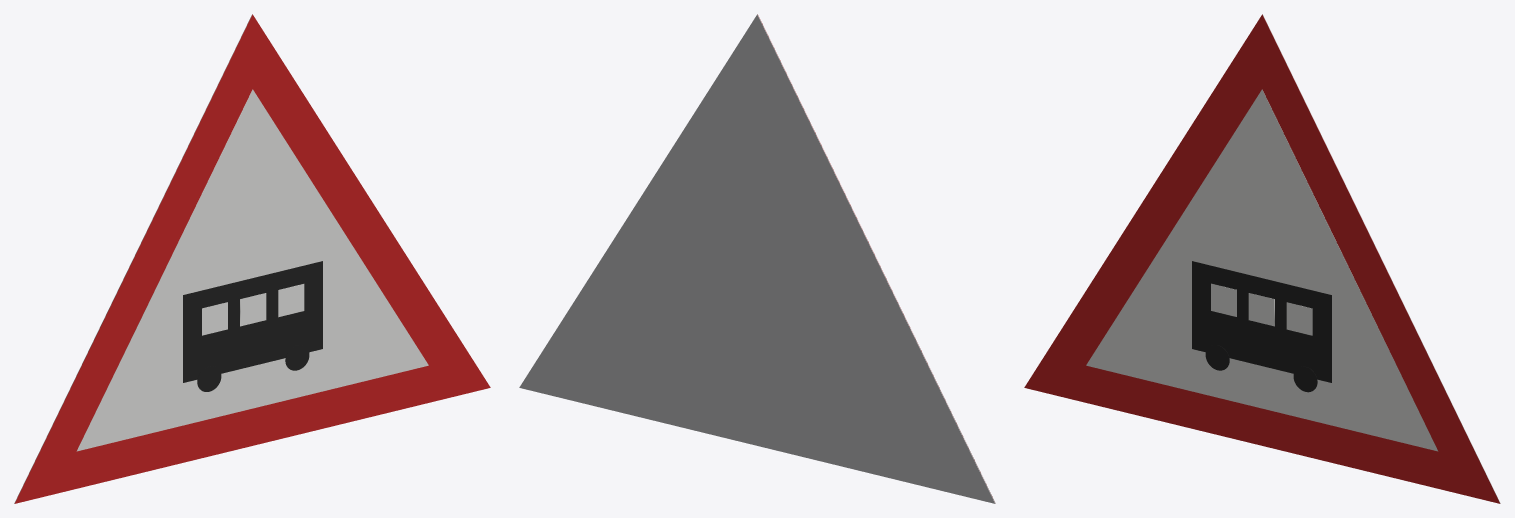
3 renders of one model, left to right at view 1: azimuth 30°, elevation 25°; view 2: azimuth 150°, elevation 25°; view 3: azimuth 330°, elevation 25°, orthographic.
Parts seen in each view (by area): view 1: A9a_p00, A9a_p01, A9a_p02, A9a_p04, A9a_p05, A9a_p03, A9a_dos; view 2: A9a_dos; view 3: A9a_p00, A9a_p01, A9a_p02, A9a_p04, A9a_p05, A9a_p03, A9a_dos.
Part boxes in pixels (x1,y1,x2,y2): A9a_p00: (14,14,490,503); A9a_p01: (76,89,428,451); A9a_p02: (183,261,322,382); A9a_p04: (240,293,266,326); A9a_p05: (278,284,304,317); A9a_p03: (202,302,227,335); A9a_dos: (14,14,252,503); A9a_dos: (519,14,995,503); A9a_p00: (1024,14,1500,503); A9a_p01: (1086,89,1438,451); A9a_p02: (1192,261,1331,382); A9a_p04: (1248,293,1274,326); A9a_p05: (1286,302,1312,335); A9a_p03: (1211,283,1236,316); A9a_dos: (1262,14,1500,503).
Bounding box in the file's own units: 1 × 0.866 × 0.0045.
